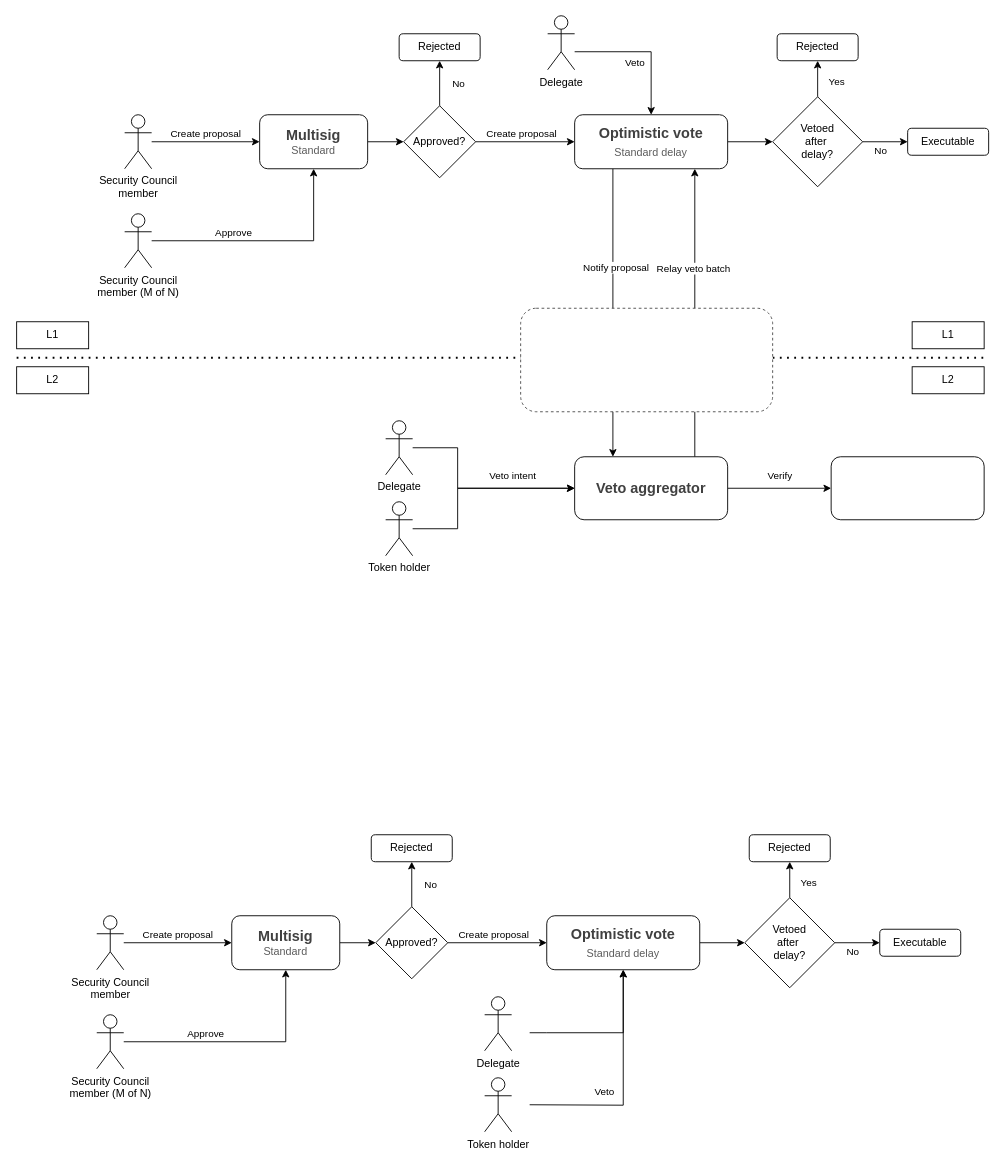
This 1005x1166 diagram has some shape labels left out. Each missing label, with the centre of its shape:
"L1 hashes" goes at [907,488].
"Taiko Bridge" goes at [646,359].
